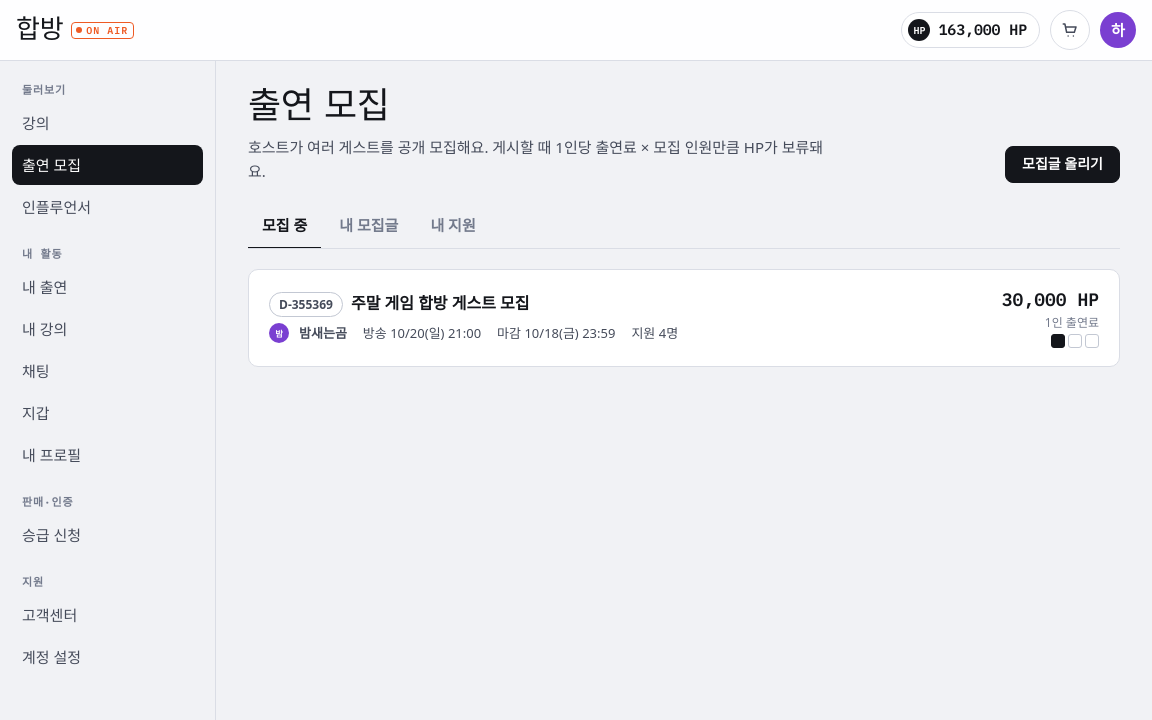
Scenario: 출연 모집 목록 › 내 모집글·내 지원 탭은 인플루언서에게만 보이고 URL tab으로 바뀐다
This screenshot has width=1152, height=720.
Click the tab "내 모집글" at (369, 226), box x1=325 y1=203 x2=412 y2=249
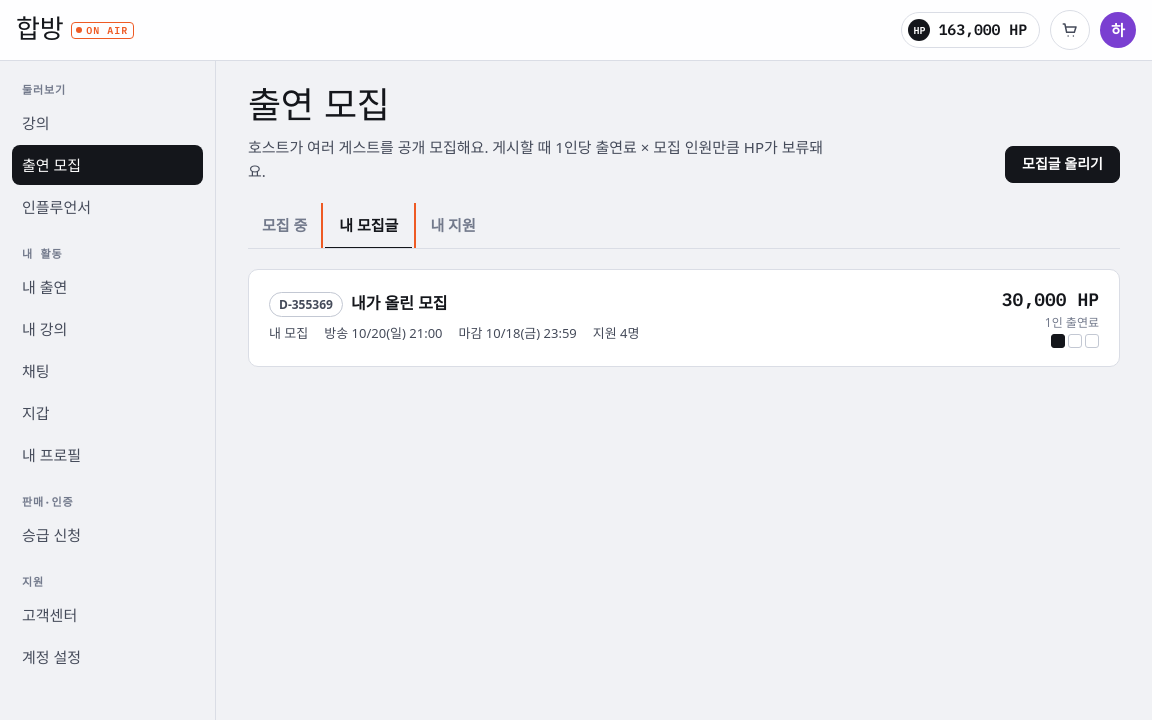
Now the text "내 모집" is shown, box x1=269 y1=323 x2=308 y2=344
